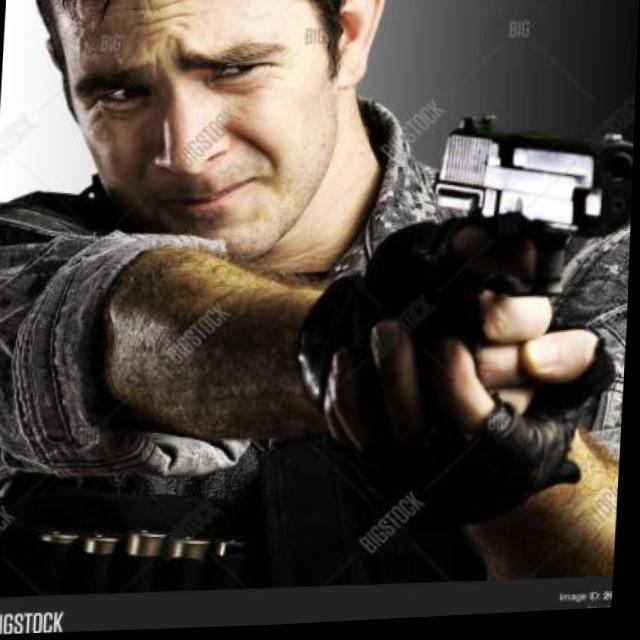weapon: (399, 104, 636, 425)
